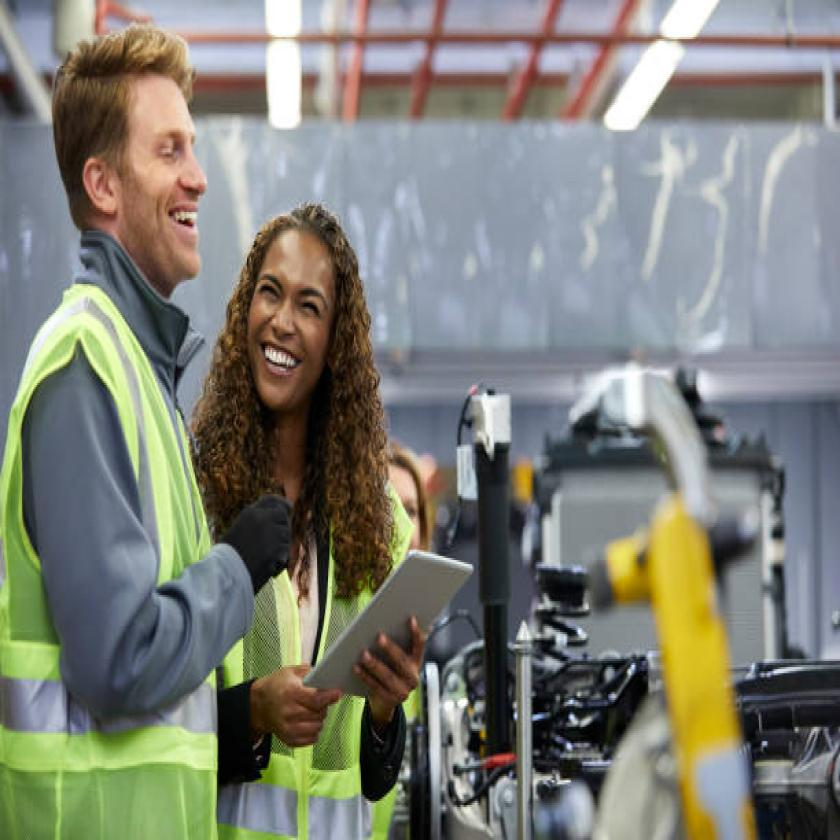Sin_casco: (57, 17, 214, 313), (239, 186, 386, 455)
